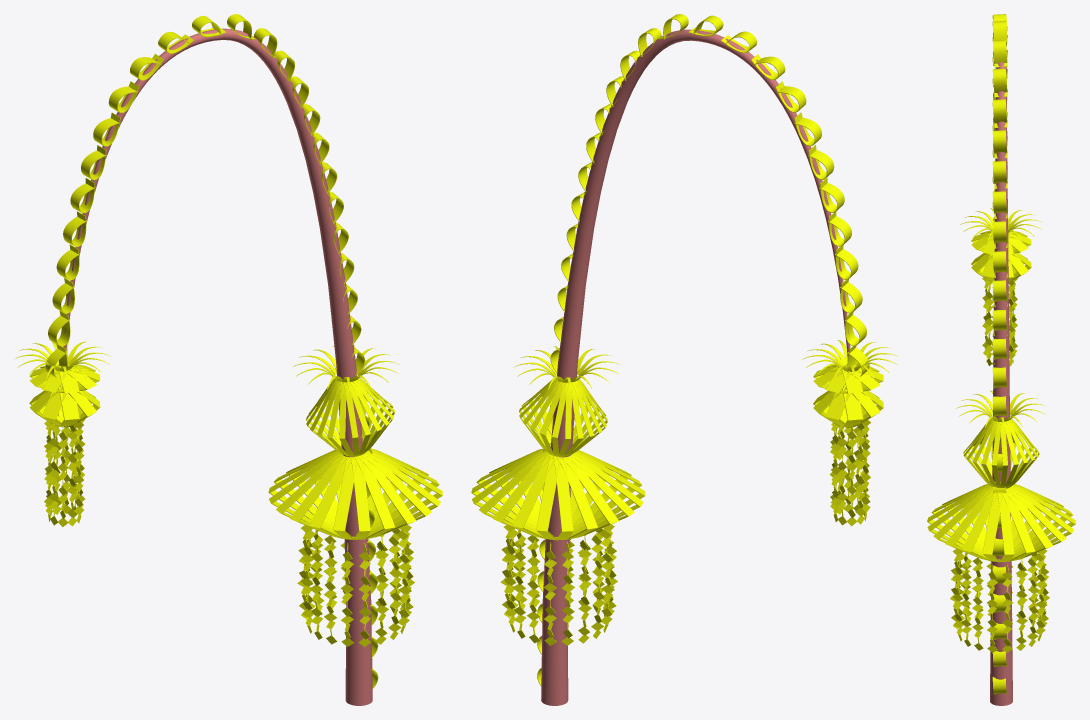
File: penjor-high.glb
3 views of the same model, side by side, from view 1: azimuth 30°, elevation 25°; view 2: azimuth 150°, elevation 25°; view 3: azimuth 270°, elevation 25° (orthographic). The views are drawn at different scales.
Parts seen in each view (by area): view 1: Sweep_Mat_0, Cloner_Mat.1_0, Cloner_3_Mat.1_0, Null_Mat.1_0, Cloner_5_Mat.1_0, Cloner_4_Mat.1_0, Cloner_2_Mat.1_0, Cloner_1_Mat.1_0, Cloner_6_Mat.1_0, Cloner_7_Mat.1_0; view 2: Sweep_Mat_0, Cloner_3_Mat.1_0, Cloner_Mat.1_0, Null_Mat.1_0, Cloner_5_Mat.1_0, Cloner_4_Mat.1_0, Cloner_2_Mat.1_0, Cloner_1_Mat.1_0, Cloner_6_Mat.1_0, Cloner_7_Mat.1_0; view 3: Cloner_3_Mat.1_0, Cloner_Mat.1_0, Null_Mat.1_0, Sweep_Mat_0, Cloner_5_Mat.1_0, Cloner_4_Mat.1_0, Cloner_2_Mat.1_0, Cloner_1_Mat.1_0, Cloner_6_Mat.1_0, Cloner_7_Mat.1_0.
Boxes of the visible parts, x1,y1,x2,y2 form: Sweep_Mat_0: (63,28,372,705); Cloner_Mat.1_0: (45,14,378,688); Cloner_3_Mat.1_0: (268,448,442,539); Null_Mat.1_0: (297,525,414,646); Cloner_5_Mat.1_0: (306,376,394,456); Cloner_4_Mat.1_0: (44,414,85,526); Cloner_2_Mat.1_0: (29,383,100,427); Cloner_1_Mat.1_0: (29,364,100,393); Cloner_6_Mat.1_0: (293,345,399,390); Cloner_7_Mat.1_0: (15,340,110,380); Sweep_Mat_0: (541,29,850,705); Cloner_3_Mat.1_0: (471,448,645,540); Cloner_Mat.1_0: (537,14,869,685); Null_Mat.1_0: (500,510,617,645); Cloner_5_Mat.1_0: (519,377,607,456); Cloner_4_Mat.1_0: (829,413,870,526); Cloner_2_Mat.1_0: (813,383,883,427); Cloner_1_Mat.1_0: (813,364,883,393); Cloner_6_Mat.1_0: (514,346,619,391); Cloner_7_Mat.1_0: (802,340,897,380); Cloner_3_Mat.1_0: (927,484,1075,562); Cloner_Mat.1_0: (992,14,1007,694); Null_Mat.1_0: (950,549,1049,652); Sweep_Mat_0: (990,62,1012,705); Cloner_5_Mat.1_0: (963,417,1039,488); Cloner_4_Mat.1_0: (982,275,1017,366); Cloner_2_Mat.1_0: (971,253,1031,282); Cloner_1_Mat.1_0: (971,230,1031,254); Cloner_6_Mat.1_0: (956,390,1046,428); Cloner_7_Mat.1_0: (960,208,1041,242).
Bounding box in the file's own units: 0.596 × 1 × 0.2196.
